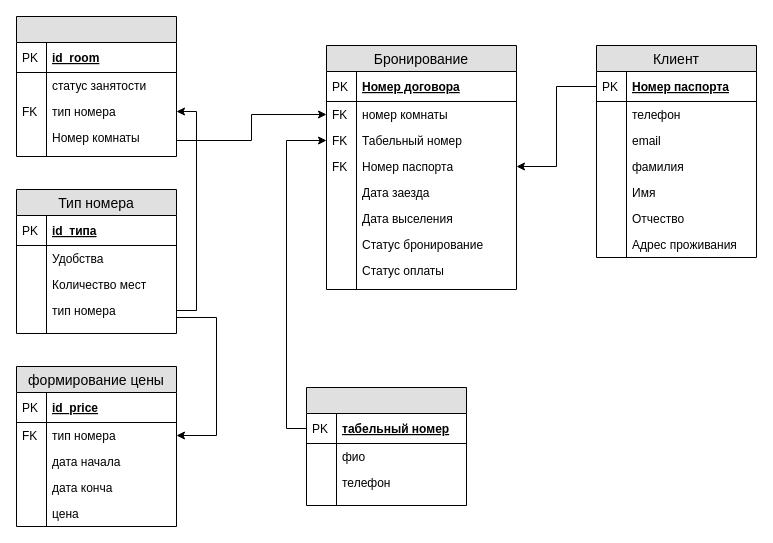
The diagram is 773 pixels wide and 543 high, and some of its shapes have lost their labels. The box of each missing label's shape, as (x1, y1, x2, y2) in pixels:
Комната: (16, 16, 176, 156)
Сотрудник: (306, 386, 466, 506)
